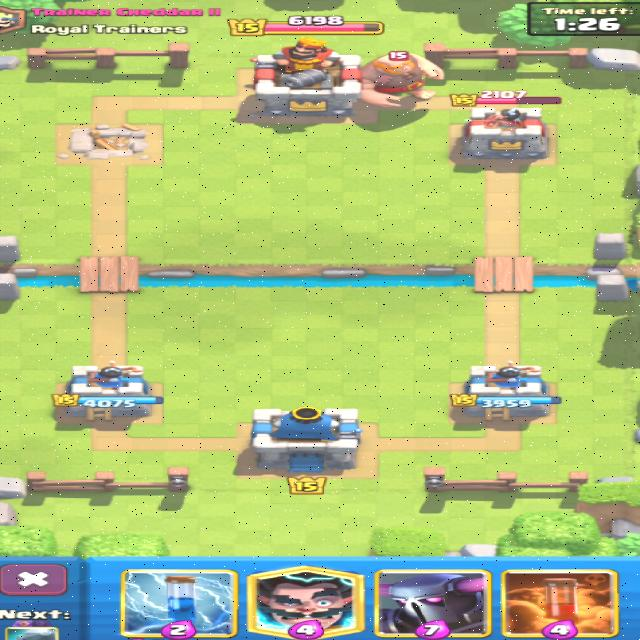Enemy-Giant: (359, 55, 438, 104)
Enemy-KingTower-Activated: (257, 37, 360, 115)
Enemy-PrincessTower: (463, 106, 547, 159)
Player-KingTower: (250, 405, 362, 471)
Player-PrincessTower: (52, 361, 162, 420), (452, 362, 559, 420)
